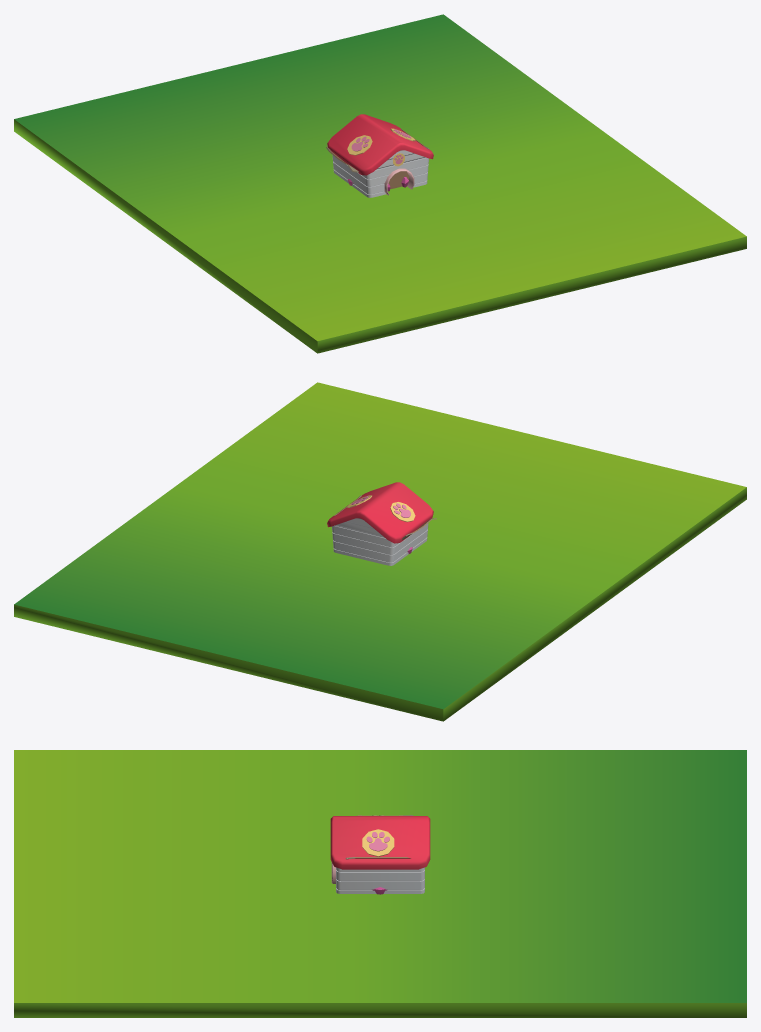
File: Kitty_Jam_Environment.fbx
3 renders of one model, top to bottom at view 1: azimuth 30°, elevation 25°; view 2: azimuth 150°, elevation 25°; view 3: azimuth 270°, elevation 25°, orthographic. The views are drawn at different scales.
Parts seen in each view (by area): view 1: platform, Cat_House; view 2: platform, Cat_House; view 3: platform, Cat_House.
Boxes of the visible parts, box(x1,y1,x2,y2) form: platform: box(14, 14, 746, 353); Cat_House: box(327, 114, 433, 197); platform: box(14, 382, 746, 721); Cat_House: box(327, 482, 433, 565); platform: box(14, 750, 746, 1017); Cat_House: box(330, 815, 430, 893).
Size of the model in its own units: 385 by 53.07 by 472.
1 material, 1 textured.
